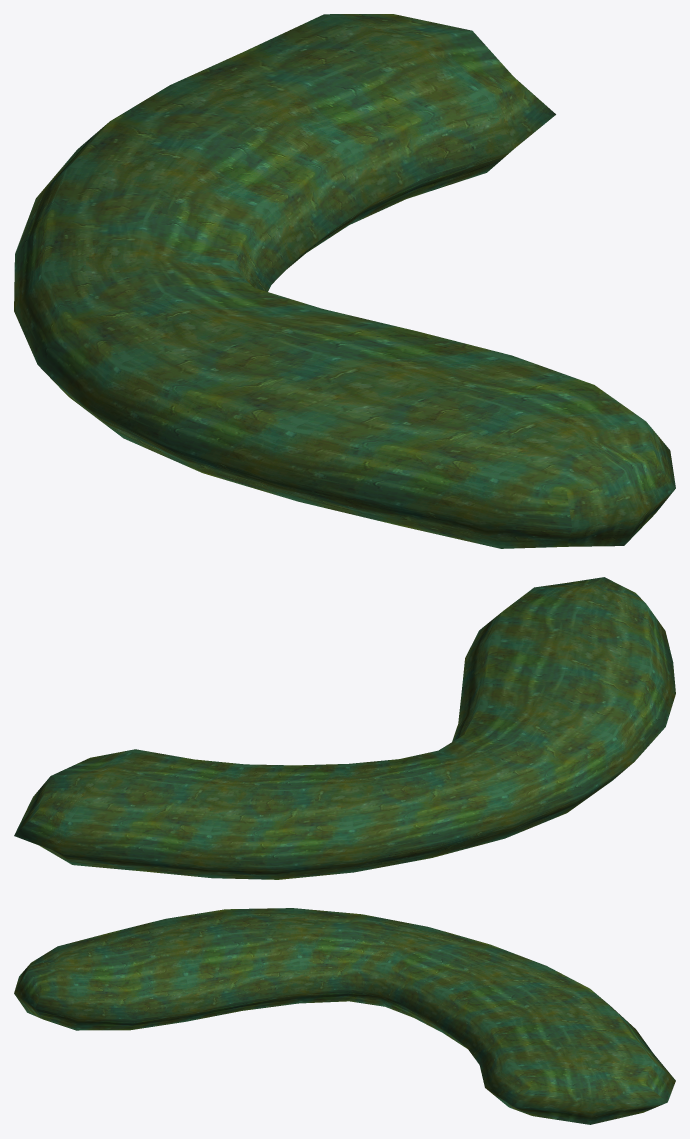
File: MIRKWOOD_MIRK_PLAYSURFACE229.fbx
The picture shows the model from 3 angles, top to bottom: view 1: azimuth 30°, elevation 25°; view 2: azimuth 150°, elevation 25°; view 3: azimuth 270°, elevation 25°; orthographic projection. The views are drawn at different scales.
Parts seen in each view (by area): view 1: MIRKWOOD_MIRK_PLAYSURFACE229; view 2: MIRKWOOD_MIRK_PLAYSURFACE229; view 3: MIRKWOOD_MIRK_PLAYSURFACE229.
Part boxes in pixels (x1=…): MIRKWOOD_MIRK_PLAYSURFACE229: x1=14, y1=14, x2=675, y2=548; MIRKWOOD_MIRK_PLAYSURFACE229: x1=14, y1=577, x2=675, y2=879; MIRKWOOD_MIRK_PLAYSURFACE229: x1=14, y1=908, x2=675, y2=1124.
Bounding box in the file's own units: 48187 × 8657 × 74436.
1 material, 1 textured.
